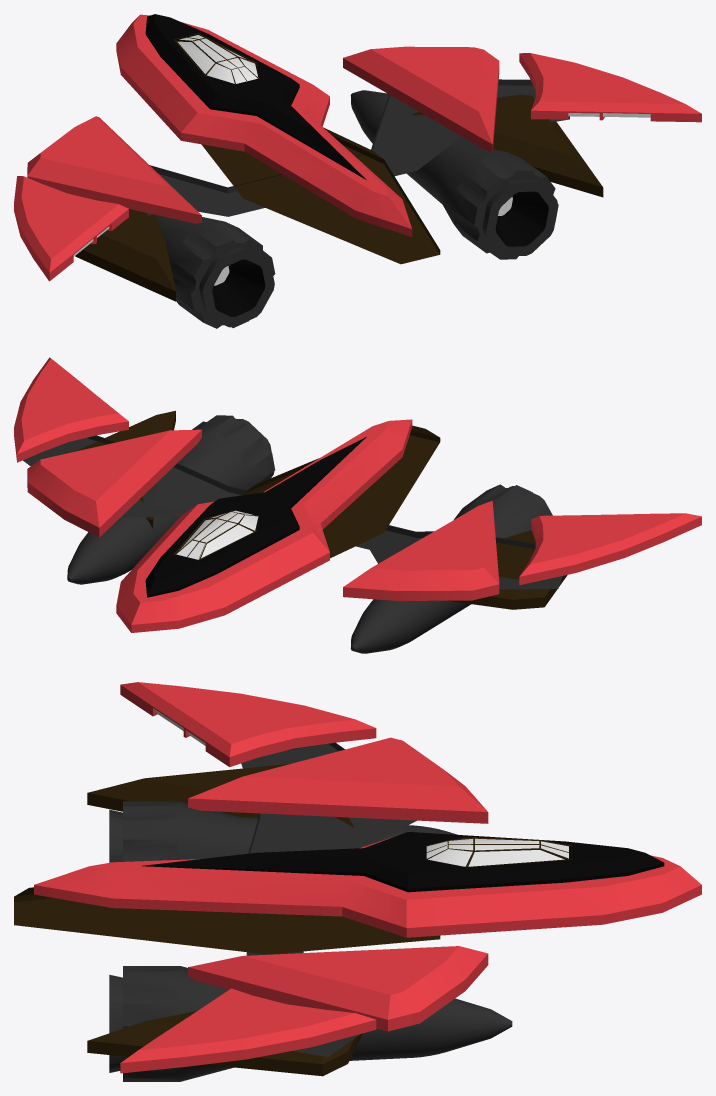
Rendered from hero.fbx.
3 renders of one model, top to bottom at view 1: azimuth 30°, elevation 25°; view 2: azimuth 150°, elevation 25°; view 3: azimuth 270°, elevation 25°, orthographic. The views are drawn at different scales.
Parts seen in each view (by area): view 1: Plane.003, Plane.001; view 2: Plane.003, Plane.001; view 3: Plane.003, Plane.001.
Boxes of the visible parts, left/top/right/bottom form: Plane.003: left=14, top=14, right=701, bottom=328; Plane.001: left=173, top=33, right=259, bottom=84; Plane.003: left=14, top=357, right=701, bottom=653; Plane.001: left=173, top=510, right=259, bottom=560; Plane.003: left=14, top=682, right=701, bottom=1081; Plane.001: left=425, top=837, right=571, bottom=867.
Bounding box in the file's own units: 268 × 49.55 × 205.
